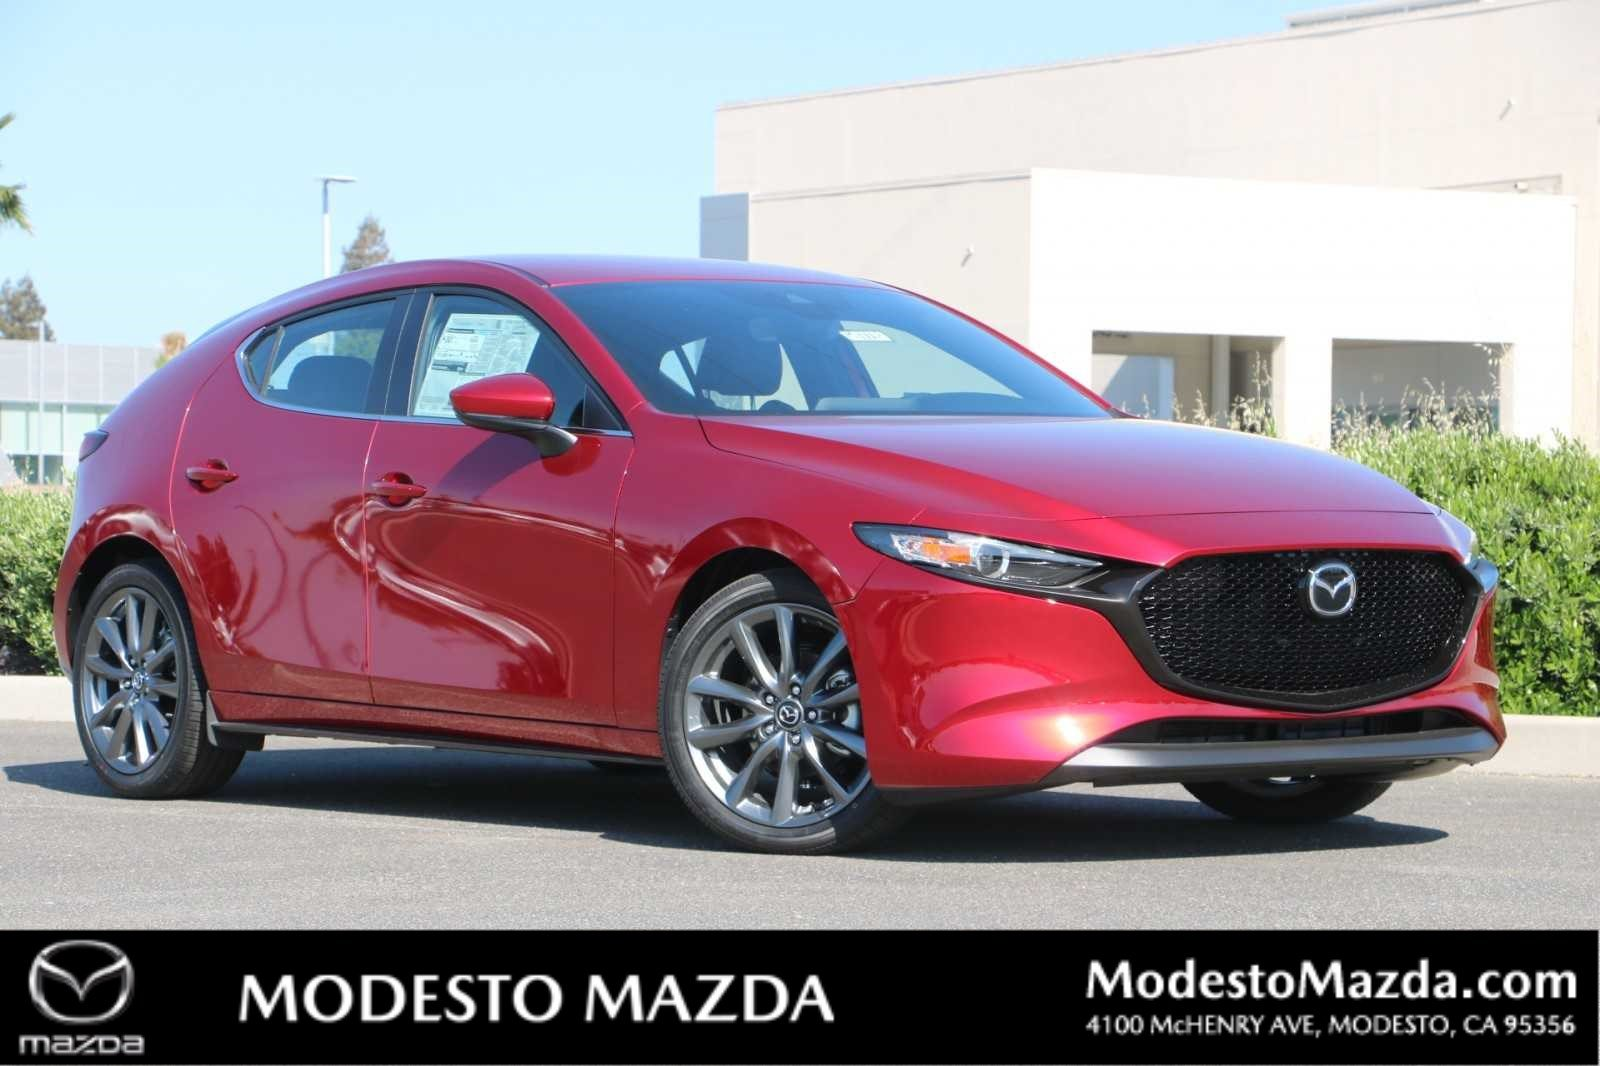Mazda3 Hatchback: (50, 249, 1507, 854)
